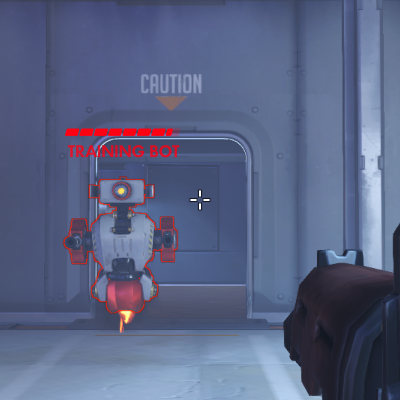hpbar: (65, 128, 180, 137)
